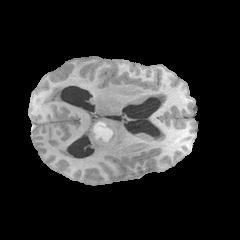glioma: (84, 118, 121, 150)
